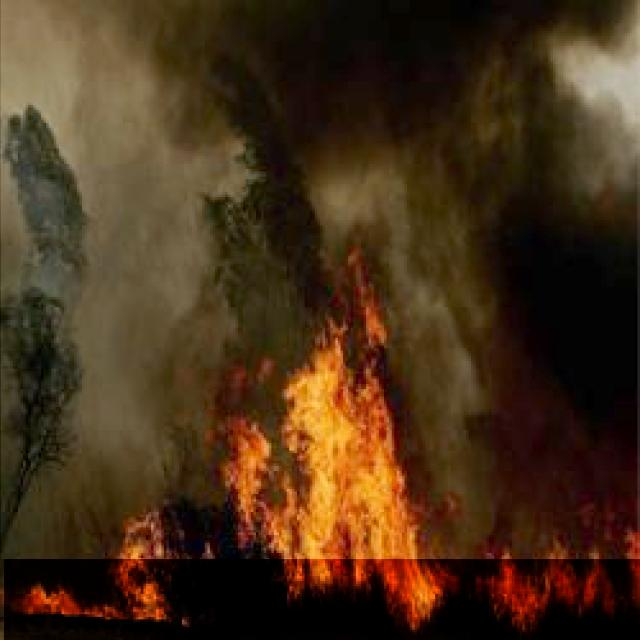Fire: (4, 299, 640, 640)
Smoke: (1, 0, 640, 559)
